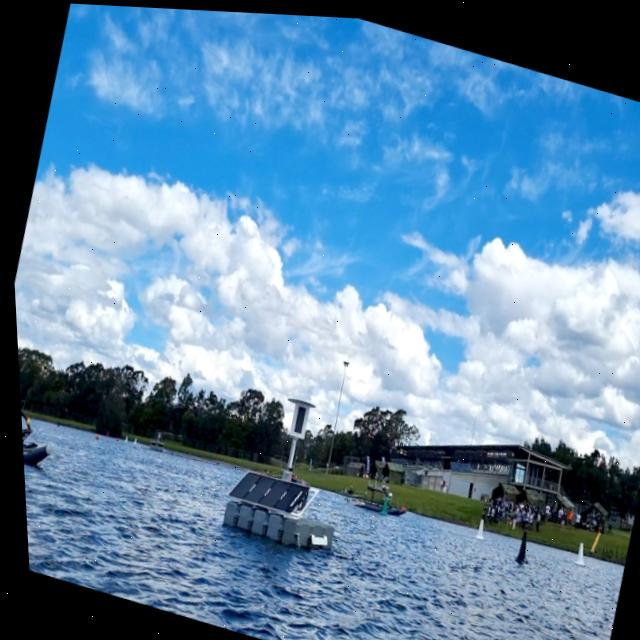led: (285, 400, 305, 435)
